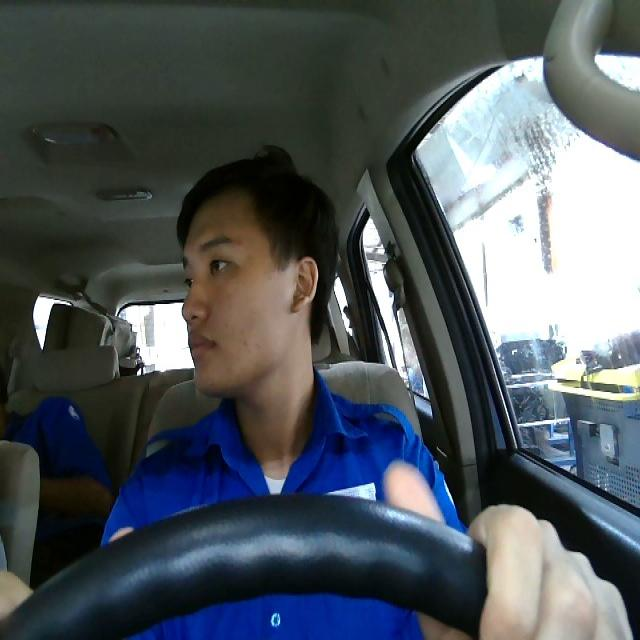seeing_left: (180, 188, 320, 399)
